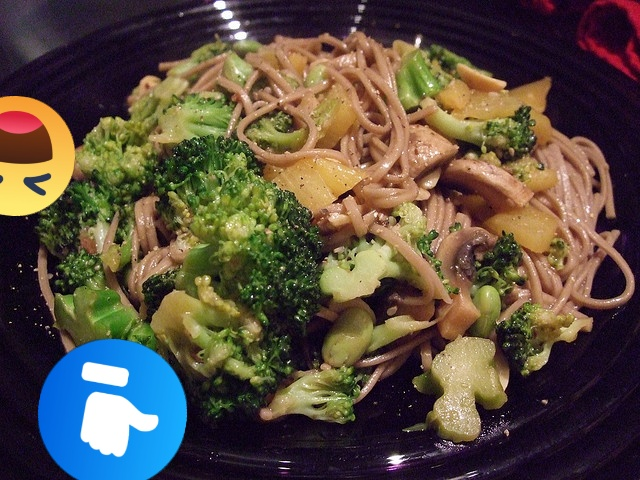haha: (0, 96, 75, 216)
like: (38, 339, 187, 480)
